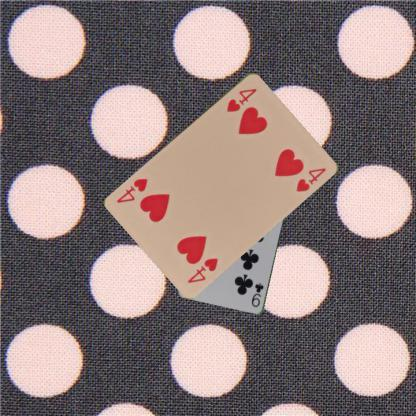4h: (185, 255, 219, 284), (224, 85, 258, 113)
9c: (249, 280, 265, 309)
